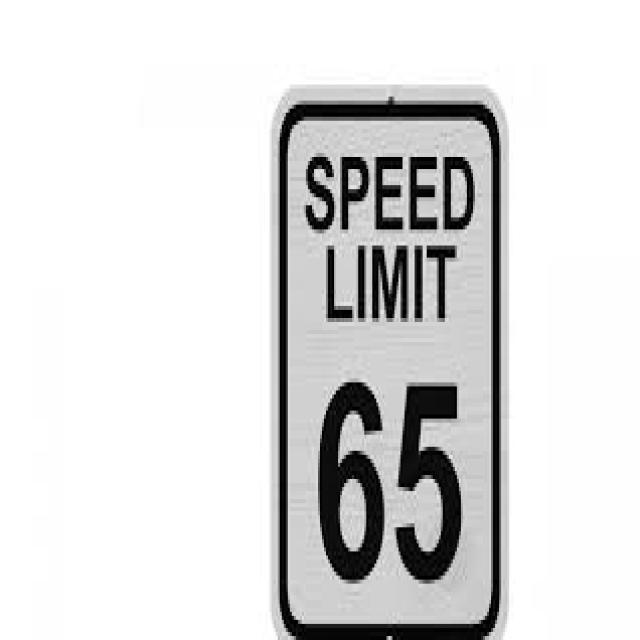speedLimit65: (270, 97, 507, 632)
